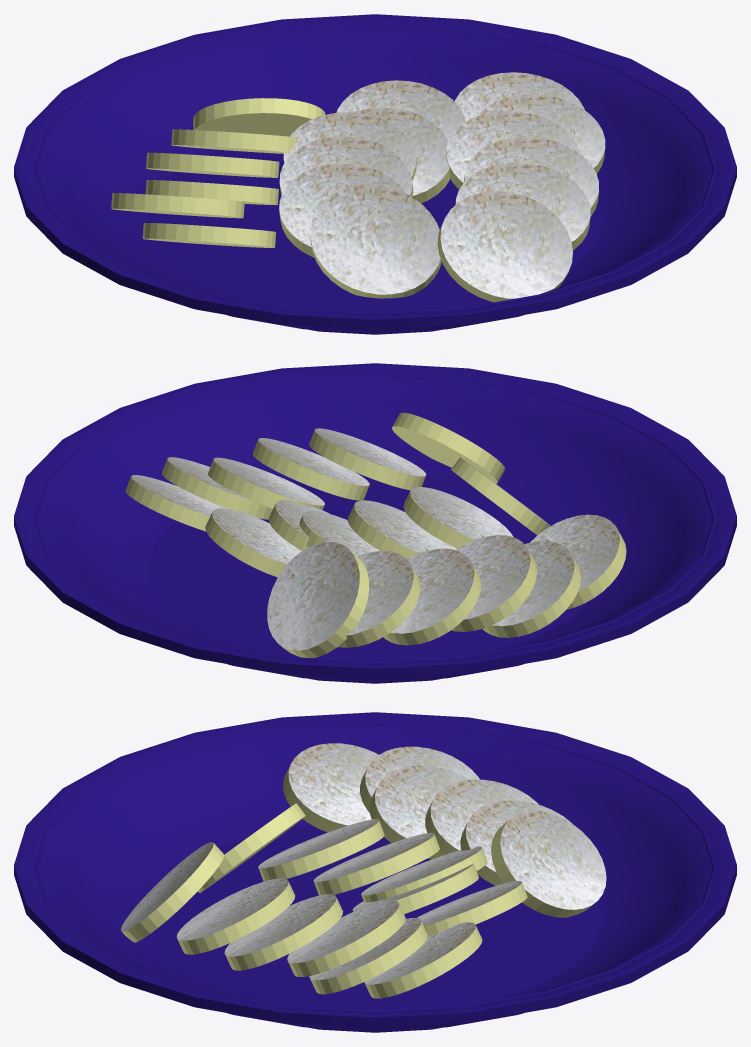
The model's file is lontong blend.fbx.
The picture shows the model from 3 angles, top to bottom: view 1: azimuth 30°, elevation 25°; view 2: azimuth 150°, elevation 25°; view 3: azimuth 270°, elevation 25°; orthographic projection.
Visible parts, largest first — view 1: piring, Cylinder.013, Cylinder.004, Cylinder.001, Cylinder.014, Cylinder.003, Cylinder.007, Cylinder.002, Cylinder.015, Cylinder.018, Cylinder.017, Cylinder.005 (+7 smaller); view 2: piring, Cylinder.007, Cylinder.009, Cylinder.010, Cylinder.011, Cylinder.012, Cylinder.008, Cylinder.014, Cylinder.018, Cylinder.002, Cylinder.001, Cylinder.015 (+7 smaller); view 3: piring, Cylinder.007, Cylinder.012, Cylinder.001, Cylinder.003, Cylinder.002, Cylinder.010, Cylinder.006, Cylinder.004, Cylinder.009, Cylinder.015, Cylinder.014 (+7 smaller).
Boxes of the visible parts, box(x1,y1,x2,y2) form: piring: box(14, 14, 736, 334); Cylinder.013: box(310, 184, 441, 298); Cylinder.004: box(437, 191, 572, 302); Cylinder.001: box(455, 162, 590, 250); Cylinder.014: box(279, 163, 405, 257); Cylinder.003: box(446, 111, 580, 189); Cylinder.007: box(193, 98, 325, 136); Cylinder.002: box(463, 137, 598, 216); Cylinder.015: box(279, 136, 413, 197); Cylinder.018: box(336, 80, 465, 140); Cylinder.017: box(354, 107, 450, 203); Cylinder.005: box(477, 94, 605, 173); piring: box(14, 363, 736, 683); Cylinder.007: box(267, 542, 368, 658); Cylinder.009: box(383, 548, 480, 645); Cylinder.010: box(451, 535, 537, 631); Cylinder.011: box(482, 541, 580, 637); Cylinder.012: box(530, 514, 626, 609); Cylinder.008: box(338, 551, 420, 647); Cylinder.014: box(403, 487, 513, 548); Cylinder.018: box(205, 508, 301, 577); Cylinder.002: box(252, 438, 369, 500); Cylinder.001: box(309, 428, 426, 490); Cylinder.015: box(347, 500, 456, 558); piring: box(14, 712, 736, 1032); Cylinder.007: box(491, 811, 606, 917); Cylinder.012: box(283, 743, 378, 832); Cylinder.001: box(176, 878, 295, 954); Cylinder.003: box(287, 900, 405, 976); Cylinder.002: box(224, 894, 343, 970); Cylinder.010: box(369, 765, 468, 859); Cylinder.006: box(364, 922, 482, 998); Cylinder.004: box(121, 842, 224, 942); Cylinder.009: box(425, 779, 538, 854); Cylinder.015: box(313, 832, 439, 895); Cylinder.014: box(258, 819, 384, 881).
Bounding box in the file's own units: 9706 × 1547 × 9706.
